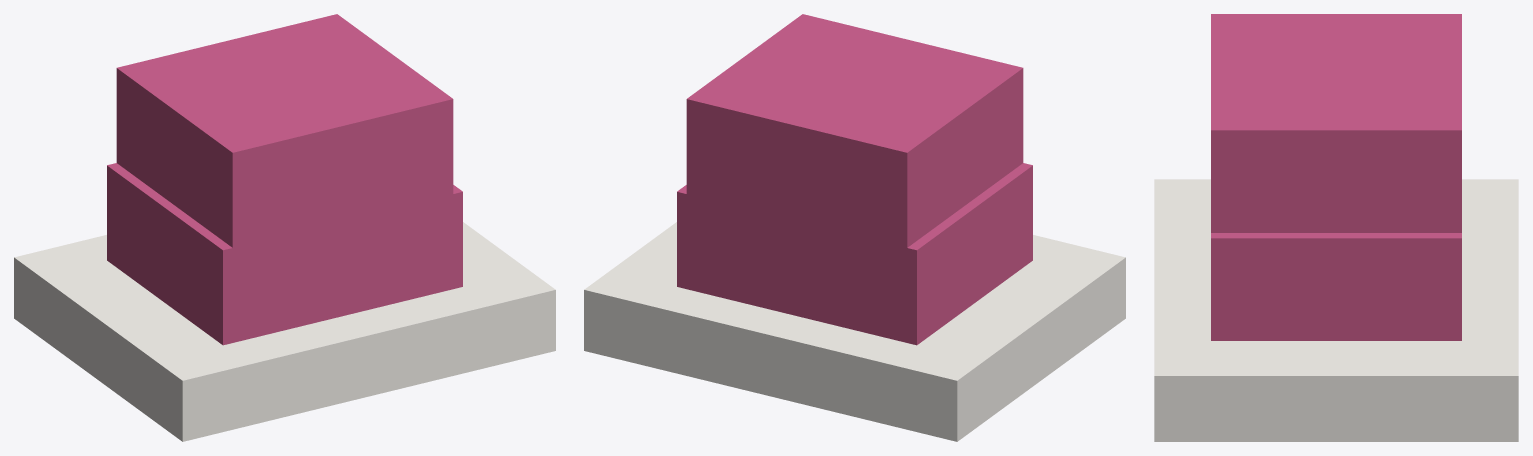
File: record_player-lv2.glb
3 views of the same model, side by side, from view 1: azimuth 30°, elevation 25°; view 2: azimuth 150°, elevation 25°; view 3: azimuth 270°, elevation 25° (orthographic). The views are drawn at different scales.
Parts seen in each view (by area): view 1: Level2, Base, Level1; view 2: Level2, Base, Level1; view 3: Base, Level2, Level1.
Part boxes in pixels (left/top/right/bottom): Level2: left=116, top=14, right=453, bottom=247; Base: left=14, top=222, right=555, bottom=441; Level1: left=107, top=163, right=462, bottom=345; Level2: left=686, top=14, right=1023, bottom=247; Base: left=584, top=222, right=1125, bottom=441; Level1: left=677, top=163, right=1032, bottom=345; Base: left=1154, top=179, right=1518, bottom=441; Level2: left=1211, top=14, right=1461, bottom=232; Level1: left=1211, top=233, right=1461, bottom=340.
Size of the model in its own units: 1.15 by 0.74 by 0.9.
